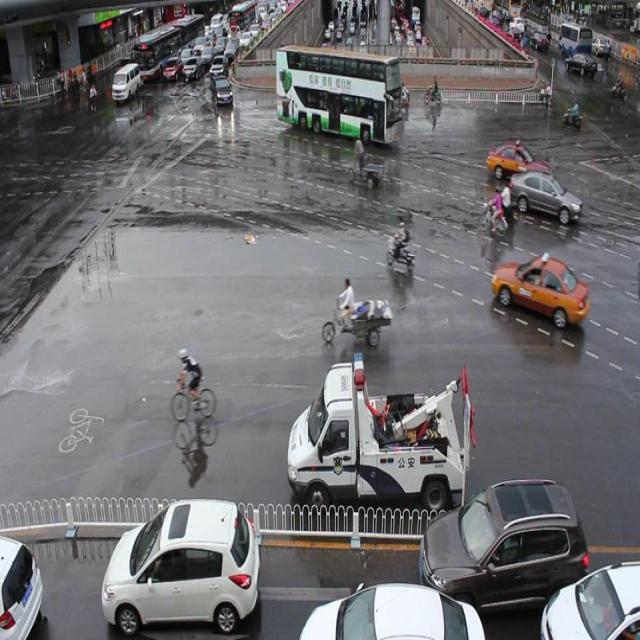bus: (287, 352, 473, 518)
car: (420, 478, 588, 617), (104, 498, 258, 628), (299, 582, 484, 640), (540, 558, 640, 640), (491, 253, 588, 327), (0, 532, 42, 640), (508, 169, 581, 224), (486, 142, 550, 184), (212, 76, 233, 108)
van: (275, 46, 402, 145)
